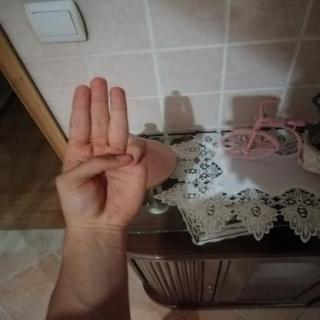THA: (46, 69, 157, 238)
